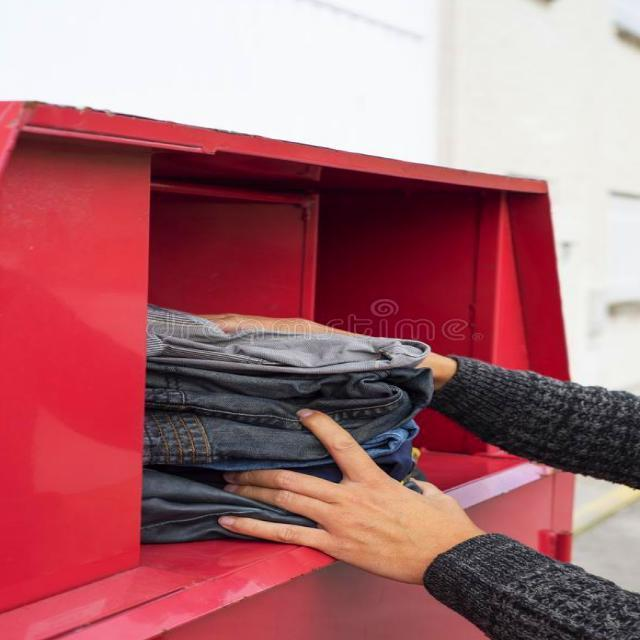clothes: (132, 330, 426, 537)
